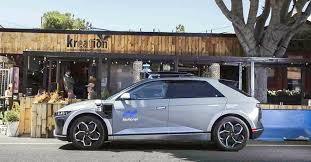Honda Ioniq: (42, 72, 271, 162)
